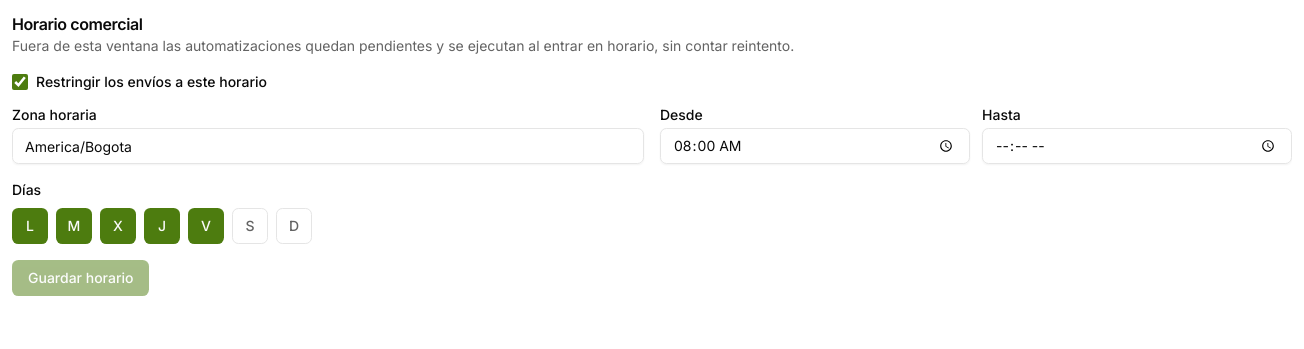
Test case: HorariosSection › muestra el mensaje del ApiError sin perder el formulario
Click the button named "Sábado": [250, 226] box top-left (232, 208), bottom-right (268, 244)
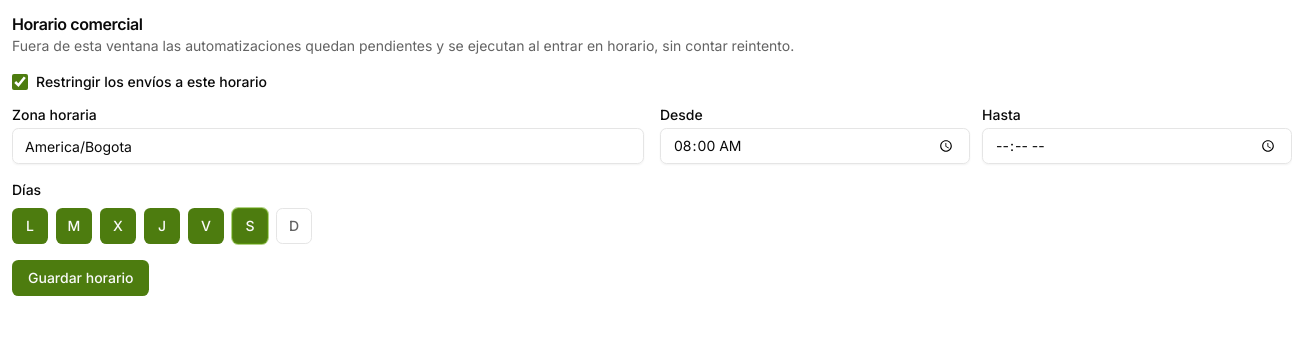
Click the button "Guardar horario": [81, 278] box top-left (12, 260), bottom-right (149, 296)
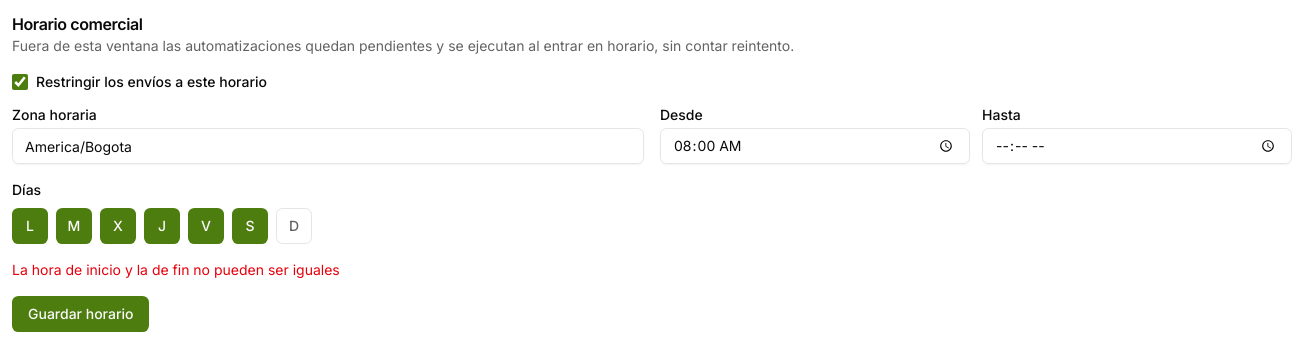
Expected: the time field labelled "Desde" holds "08:00", top-left (660, 128), bottom-right (970, 164)
Expected: the message reads "La hora de inicio y la de fin no pueden ser iguales", top-left (12, 261), bottom-right (340, 278)
